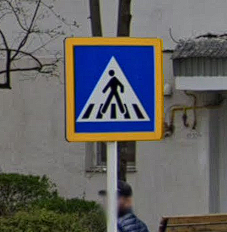trecere_pietoni: (63, 36, 164, 141)
